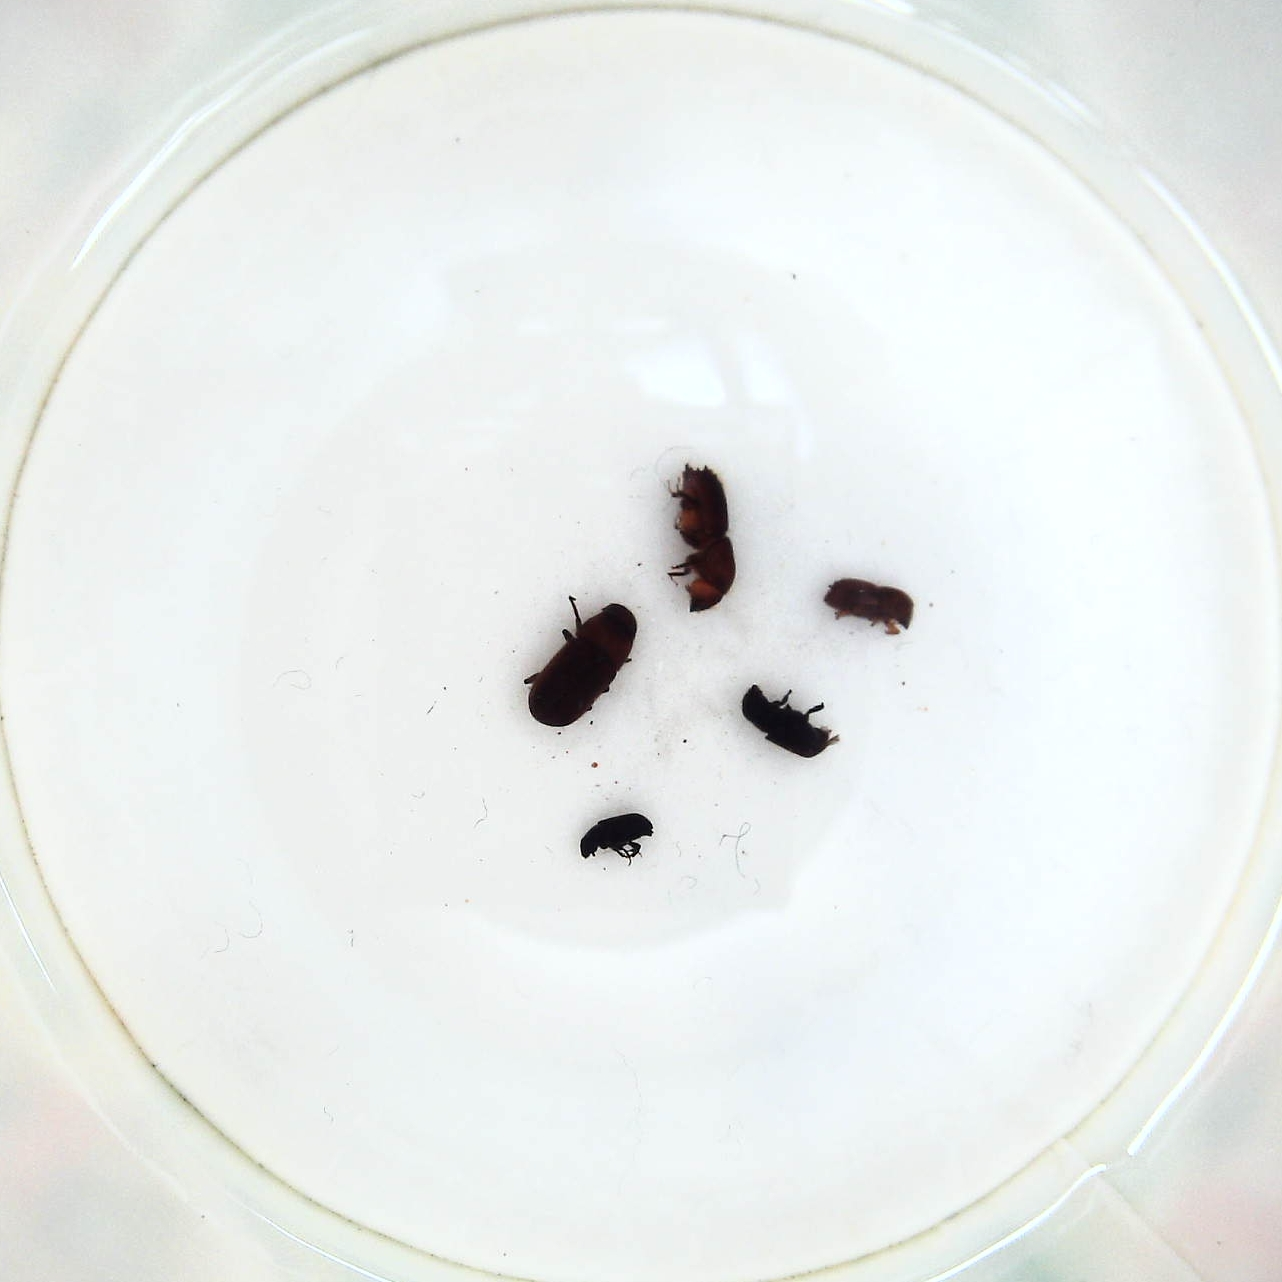Boerner: (656, 459, 741, 618)
Leconte: (522, 589, 653, 733)
armandi: (738, 679, 834, 762)
coleoptera: (573, 808, 652, 871)
linnaeus: (819, 571, 915, 640)
